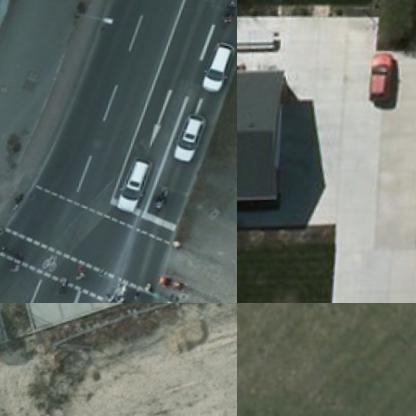car: (114, 162, 154, 221), (171, 116, 208, 168), (202, 48, 234, 100), (368, 53, 393, 106)
